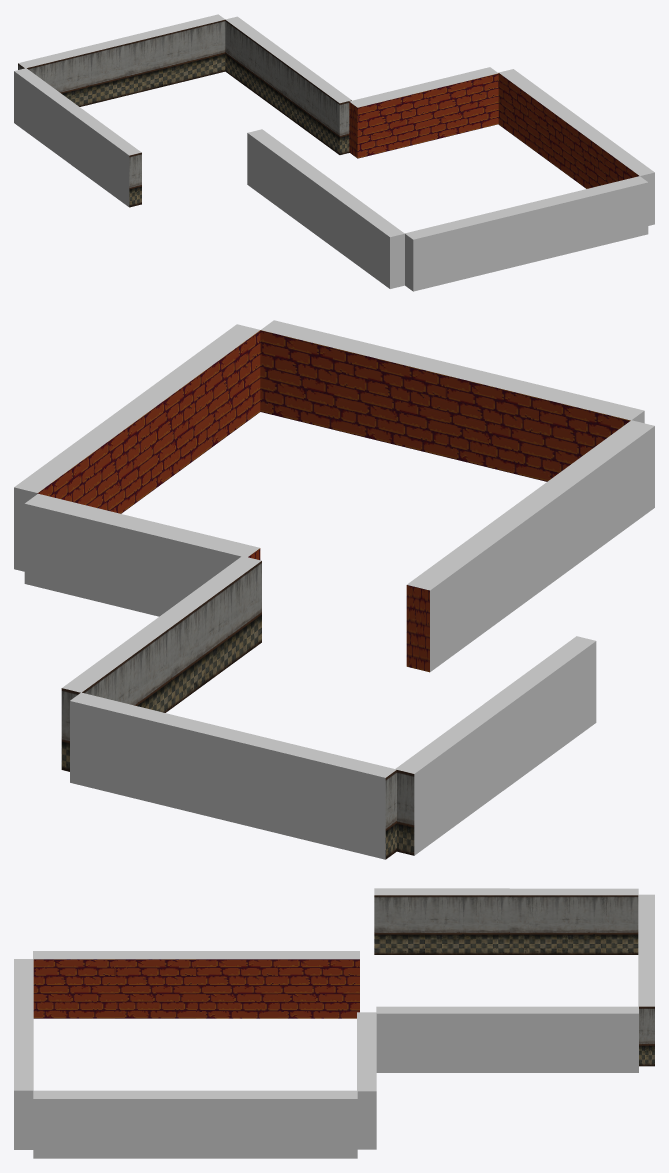
Rendered from OuterLayerWall(Remodeled).fbx.
3 renders of one model, top to bottom at view 1: azimuth 30°, elevation 25°; view 2: azimuth 150°, elevation 25°; view 3: azimuth 270°, elevation 25°, orthographic. The views are drawn at different scales.
Parts seen in each view (by area): view 1: Cube.001; view 2: Cube.001; view 3: Cube.001.
Part boxes in pixels (x1,y1,x2,y2): Cube.001: [14, 14, 654, 291]; Cube.001: [14, 320, 654, 859]; Cube.001: [14, 888, 654, 1158].
Size of the model in its own units: 6076 by 801 by 7812.
